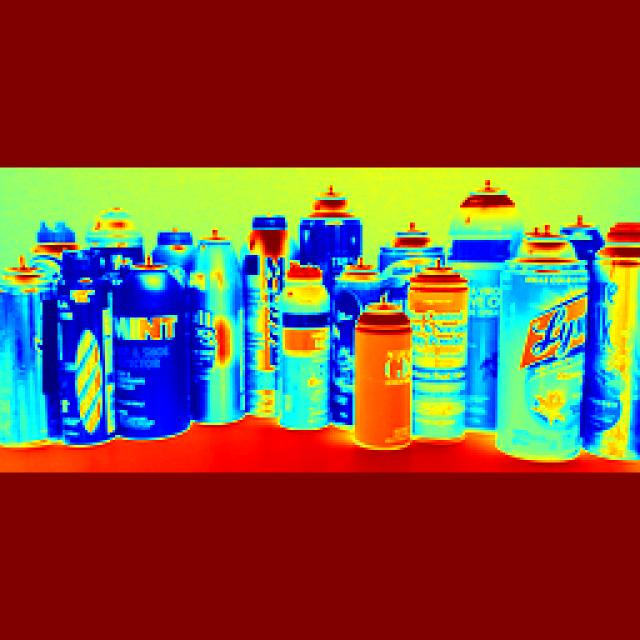Aerosol Cans: (500, 227, 586, 462), (114, 257, 195, 442), (589, 214, 640, 468), (120, 252, 186, 431), (353, 291, 421, 455), (407, 257, 467, 441), (194, 230, 251, 423), (1, 248, 56, 445), (282, 257, 328, 421), (305, 186, 362, 297)
